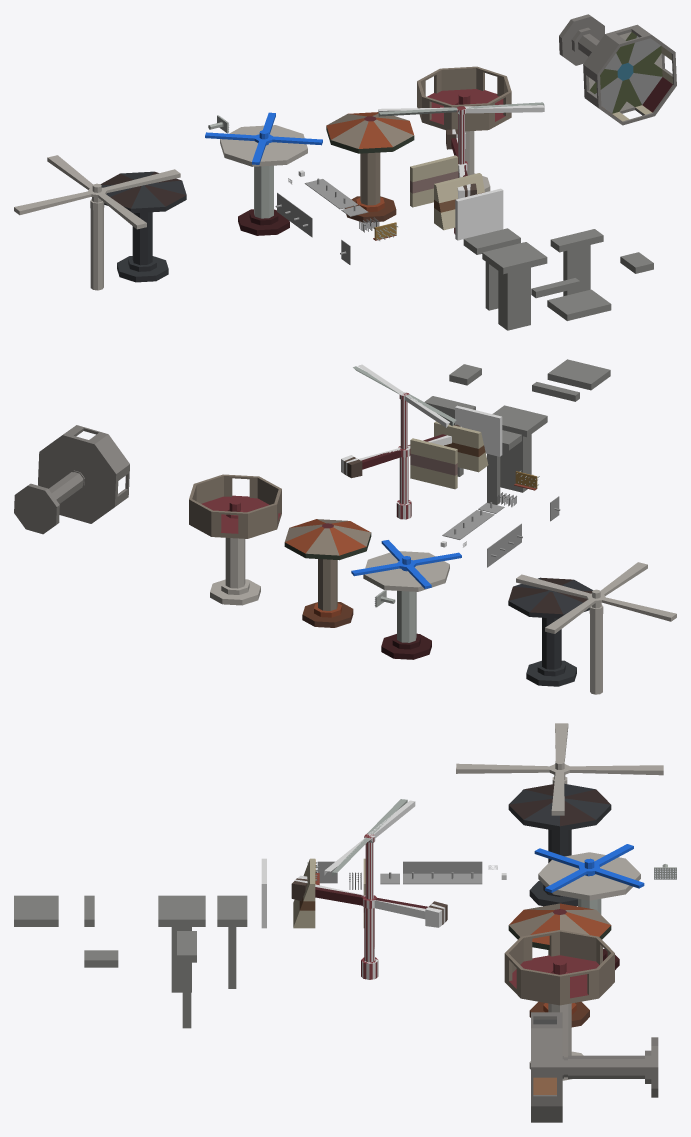
Rendered from RTO0 assets (2).fbx.
3 views of the same model, one above another, from view 1: azimuth 30°, elevation 25°; view 2: azimuth 150°, elevation 25°; view 3: azimuth 270°, elevation 25° (orthographic). The views are drawn at different scales.
Visible parts, largest first — view 1: Cylinder.006, Cylinder.005, BARABAN3, Cylinder.002, BARABAN2, PLATFORMA.001, BARABAN.001, PROPEYLER, BARABAN, Cube.002, BARABAN VERTIKAL ROOM, PLATFORMA.003 (+13 smaller); view 2: Cylinder.006, Cylinder.005, BARABAN3, BARABAN, Cylinder.002, PROPEYLER, BARABAN VERTIKAL ROOM, BARABAN ROOM, BARABAN2, PLATFORMA.001, Cylinder.008, RUN WALL (+12 smaller); view 3: Cylinder.005, Cylinder.006, BARABAN, BARABAN3, PROPEYLER, Cylinder.008, Cylinder.002, PLATFORMA.001, Cylinder.007, BARABAN.001, Cylinder.001, PLATFORMA (+10 smaller).
Boxes of the visible parts, x1,y1,x2,y2 form: Cylinder.006: (559, 14, 676, 125); Cylinder.005: (417, 66, 511, 191); BARABAN3: (220, 125, 307, 235); Cylinder.002: (326, 112, 414, 222); BARABAN2: (326, 114, 414, 222); PLATFORMA.001: (482, 242, 547, 330); BARABAN.001: (104, 181, 186, 282); PROPEYLER: (14, 155, 174, 290); BARABAN: (100, 171, 186, 280); Cube.002: (455, 188, 503, 240); BARABAN VERTIKAL ROOM: (559, 18, 676, 121); PLATFORMA.003: (550, 229, 603, 296); Cylinder.006: (14, 425, 129, 534); Cylinder.005: (189, 475, 281, 605); BARABAN3: (363, 551, 449, 659); BARABAN: (508, 577, 592, 686); Cylinder.002: (284, 519, 368, 627); PROPEYLER: (516, 562, 676, 694); BARABAN VERTIKAL ROOM: (14, 437, 129, 533); BARABAN ROOM: (189, 474, 281, 598); BARABAN2: (288, 519, 371, 627); PLATFORMA.001: (492, 405, 547, 492); Cylinder.008: (341, 364, 461, 519); RUN WALL: (410, 438, 457, 489); Cylinder.005: (504, 930, 614, 1080); Cylinder.006: (531, 1012, 658, 1122); BARABAN: (508, 783, 611, 906); BARABAN3: (538, 852, 640, 969); PROPEYLER: (456, 723, 663, 815); Cylinder.008: (294, 800, 445, 979); Cylinder.002: (508, 903, 611, 1027); PLATFORMA.001: (158, 895, 205, 992); Cylinder.007: (291, 799, 447, 979); BARABAN.001: (508, 784, 611, 905); Cylinder.001: (534, 844, 644, 892); PLATFORMA: (217, 895, 247, 988).
Bounding box in the file's own units: 32352 × 8270 × 25488.
